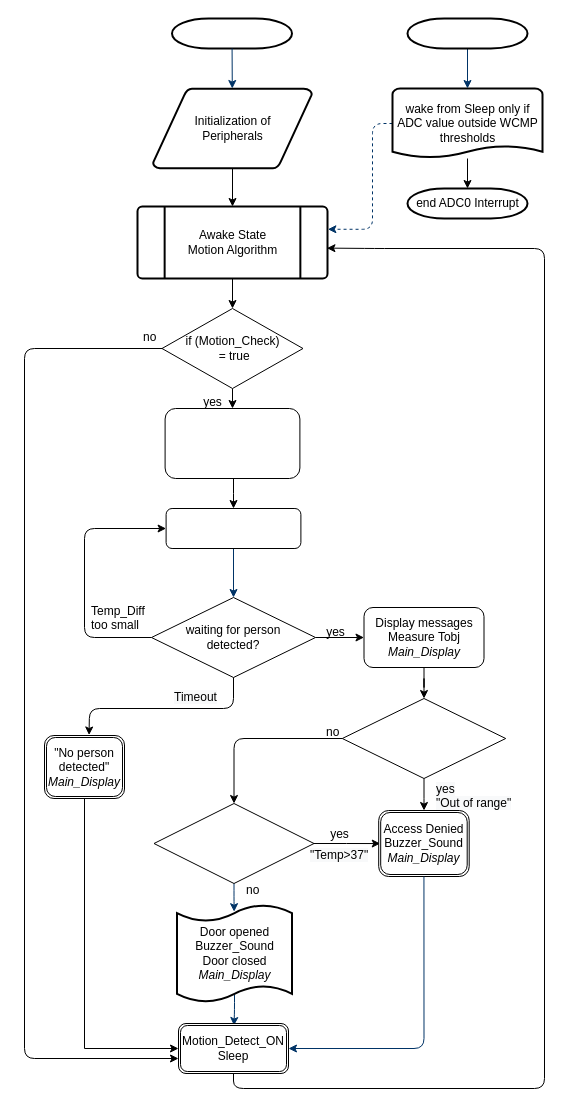
Some shapes in this 570 by 1114 pixel diagram are drawn without their labels. Each missing label, with the box of its shape:
ADC0 Interrupt: (406, 17, 528, 49)
else if (MaxTobj > TEMP_GOOD): (153, 802, 314, 884)
if (MaxTobj > TEMP_HIGH) or < TEMP_LOW: (341, 698, 506, 778)
main start: (170, 17, 292, 49)
Measure Tobj, Tamb Calculate (Tobj-Tamb): (165, 508, 301, 548)
Motion_Detect_OFF Display messages Buzzer_Sound Main_Display: (164, 408, 300, 478)
